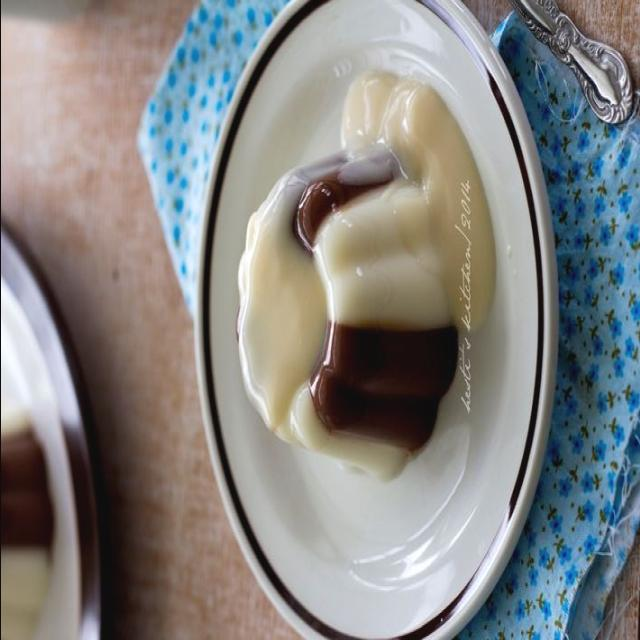puding: (238, 73, 495, 483)
